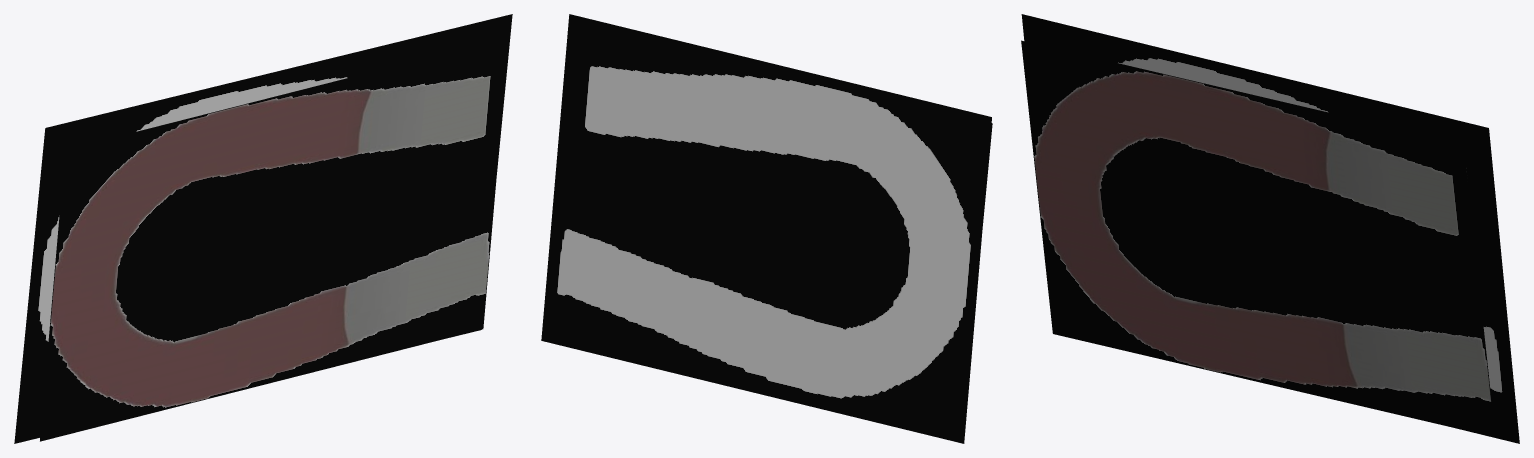
3 renders of one model, left to right at view 1: azimuth 30°, elevation 25°; view 2: azimuth 150°, elevation 25°; view 3: azimuth 330°, elevation 25°, orthographic. The views are drawn at different scales.
Parts seen in each view (by area): view 1: root (×2); view 2: root; view 3: root (×2).
Boxes of the visible parts, x1,y1,x2,y2 form: root (×2): (14,14,512,443); root: (541,14,991,443); root (×2): (1021,14,1519,443).
Bounding box in the file's own units: 0.58 × 0.4015 × 0.0894.
2 materials, 2 textured.
